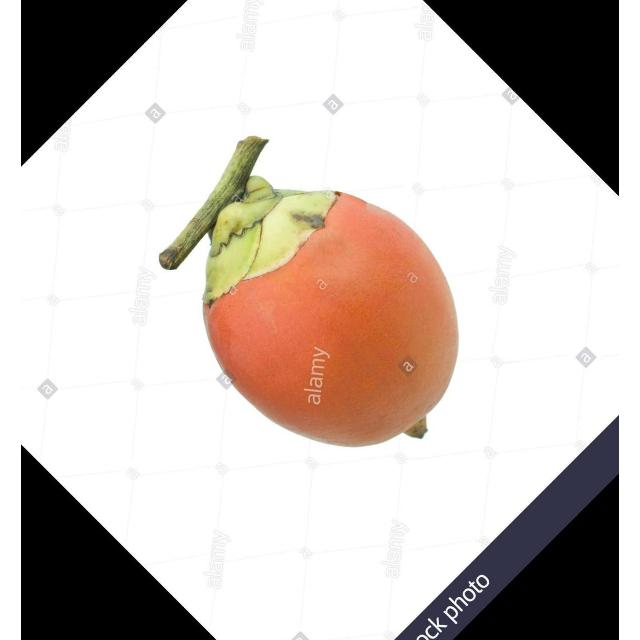good: (171, 140, 462, 450)
